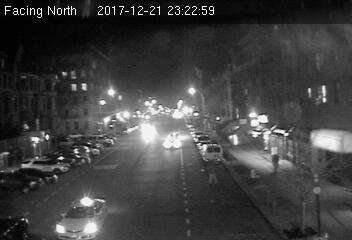car: (55, 195, 109, 239), (162, 137, 181, 150)
pedestrian: (203, 158, 218, 184)
truck: (202, 144, 222, 162)
